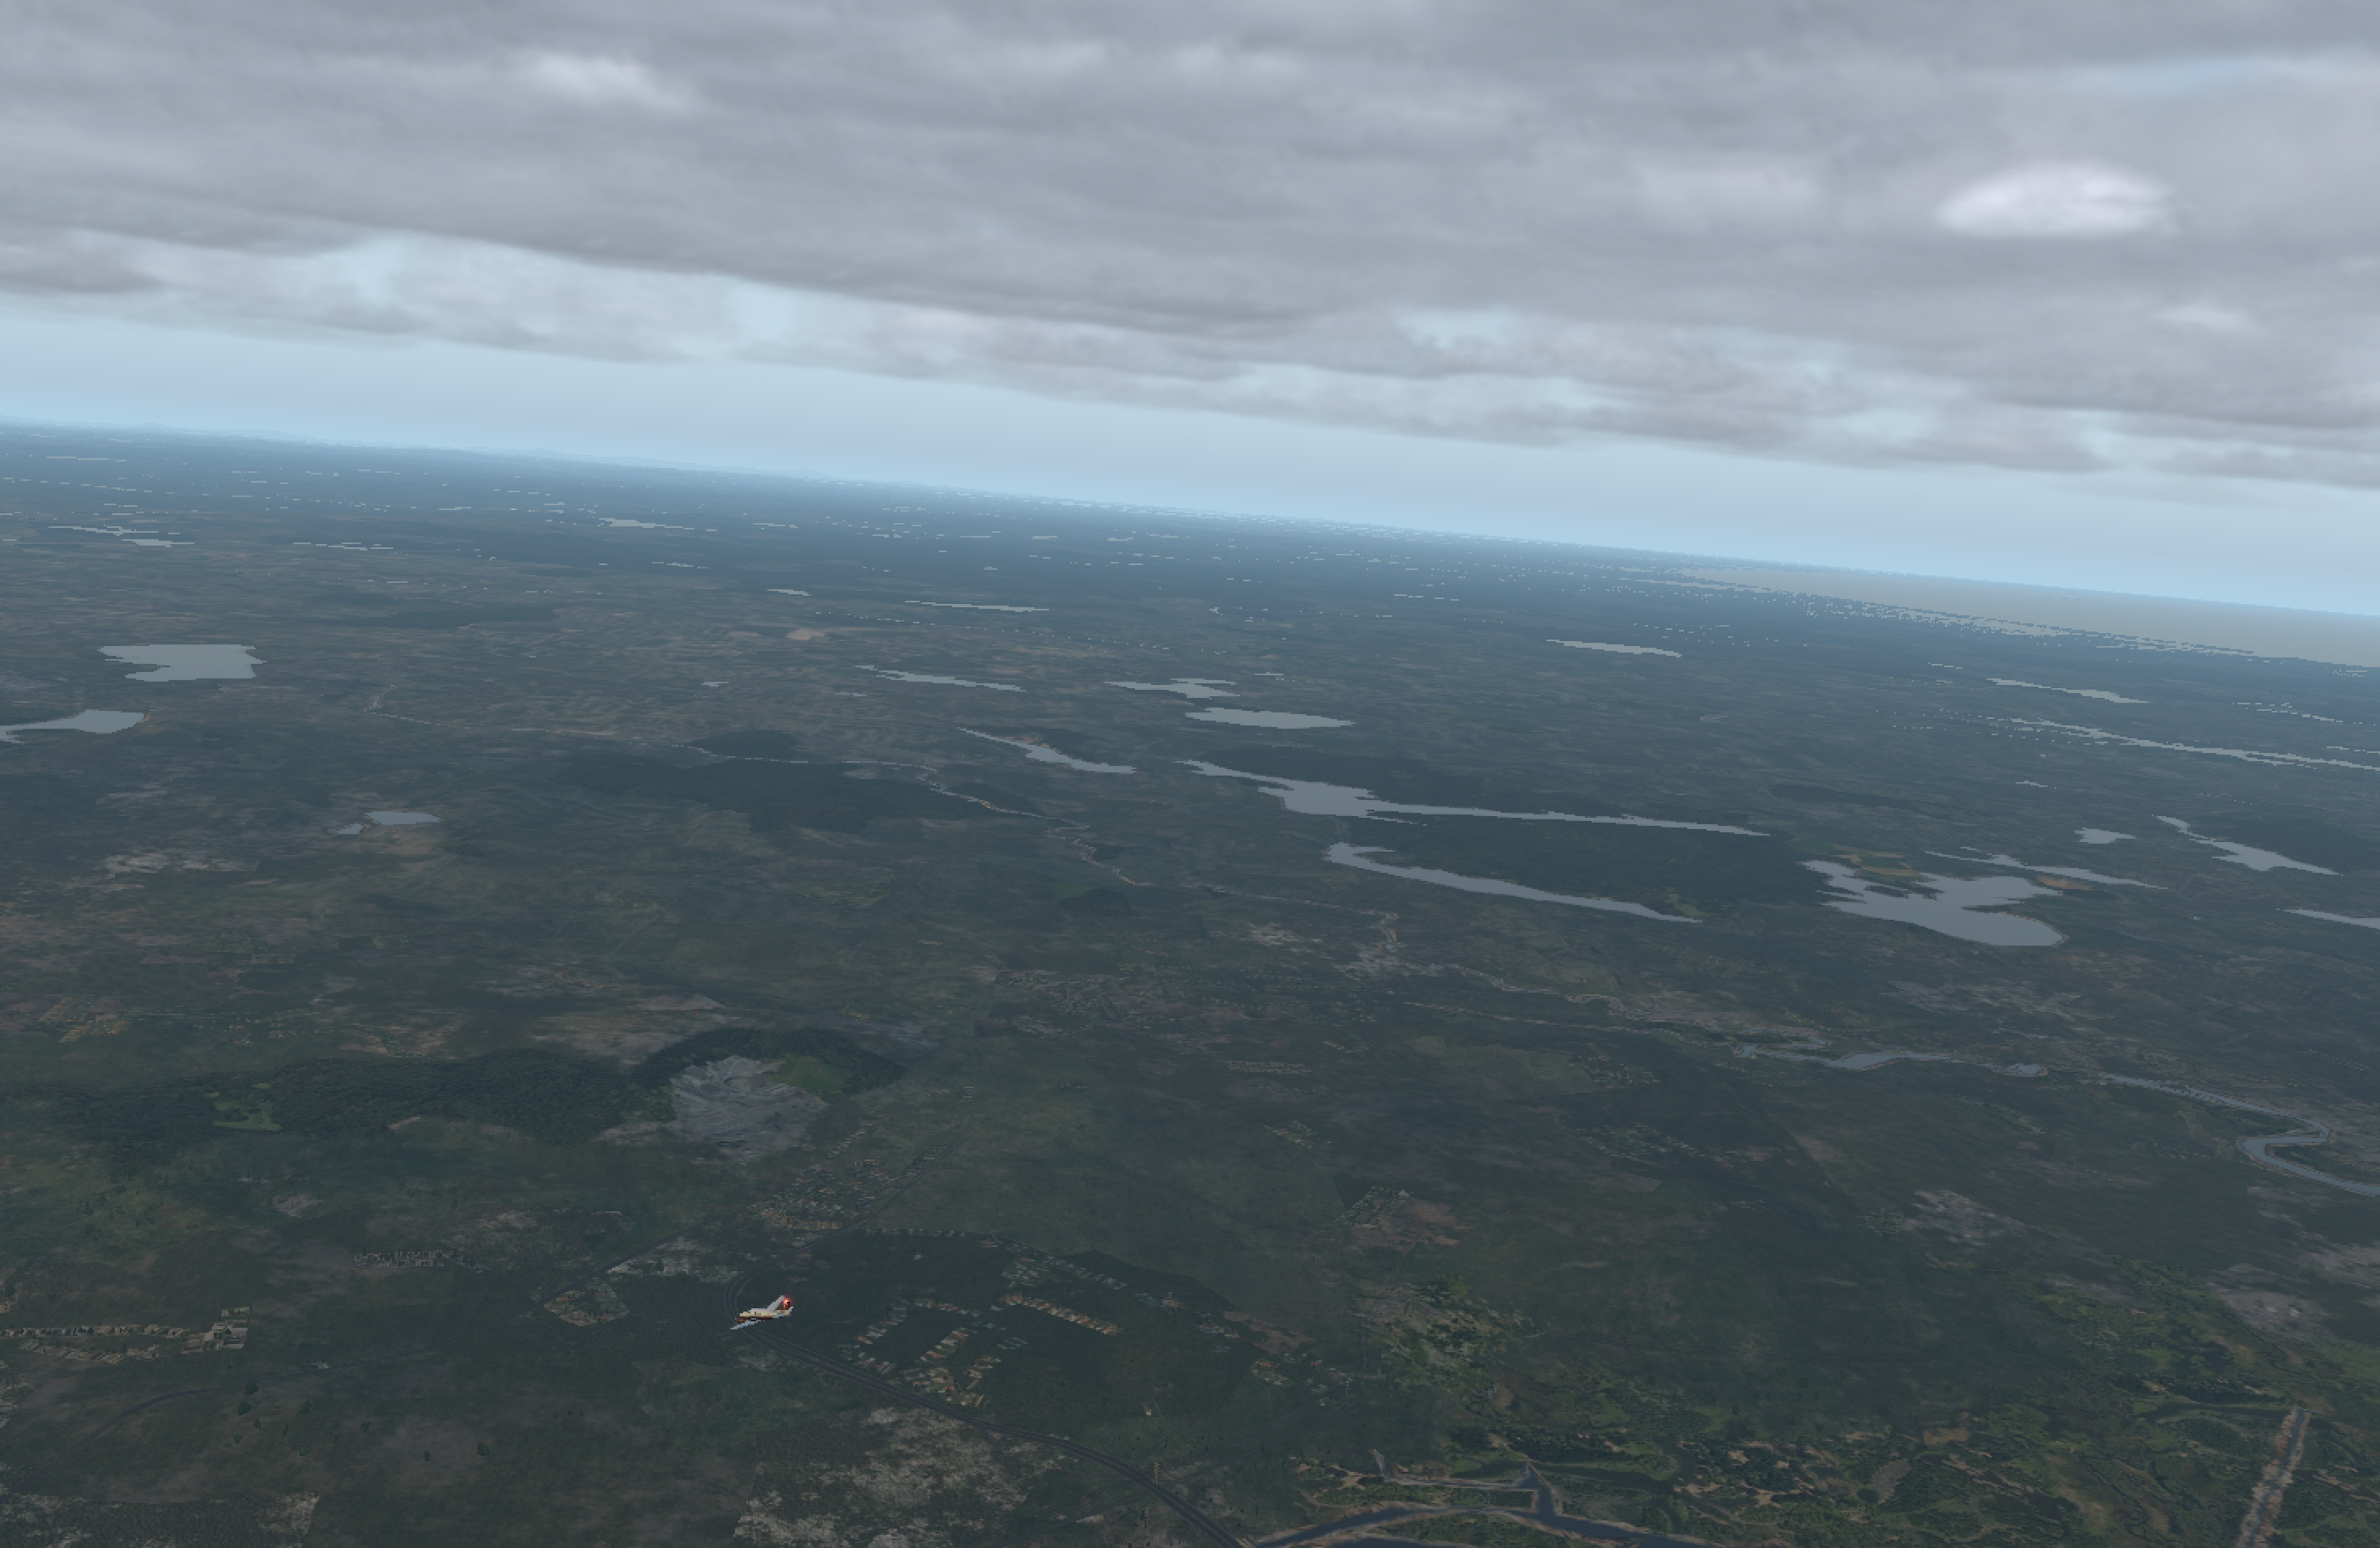aircraft: (713, 1302, 800, 1335)
